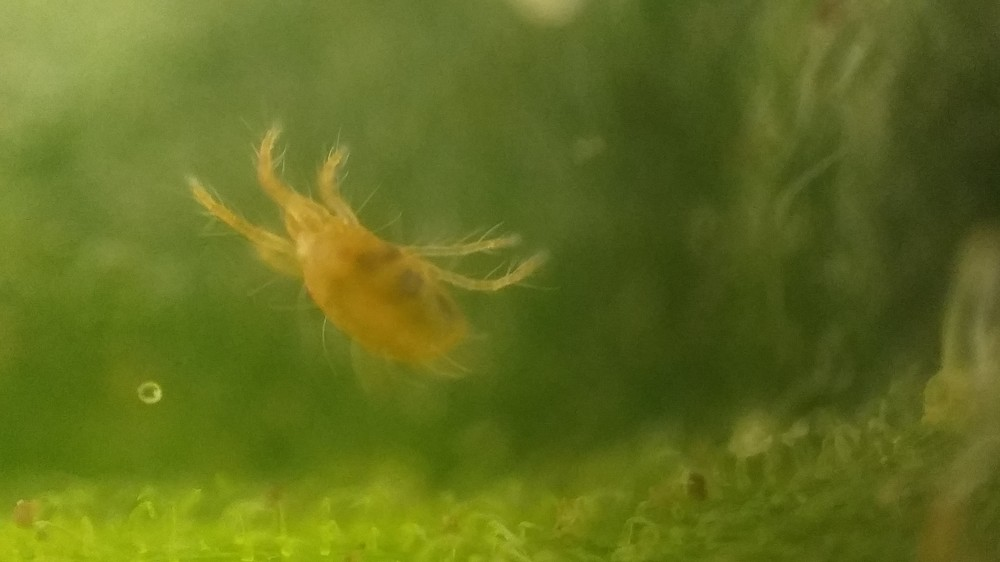Aracnido Rojo: (179, 110, 574, 436)
